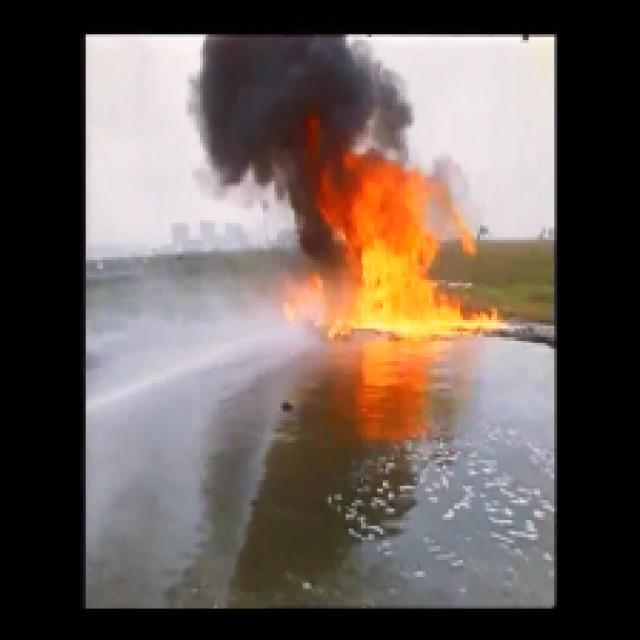fire: (338, 172, 452, 316)
smoke: (210, 40, 354, 164)
